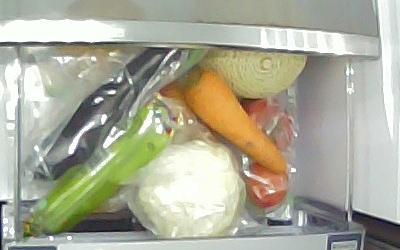cabbage_vinyl: (136, 135, 244, 237)
carrot: (182, 68, 287, 174)
eggplant_vinyl: (20, 46, 182, 183)
melon: (198, 46, 307, 99)
prune_vinyl: (239, 161, 289, 208)
tomato_vinyl: (238, 97, 293, 150)
zucchini: (30, 100, 174, 234)
